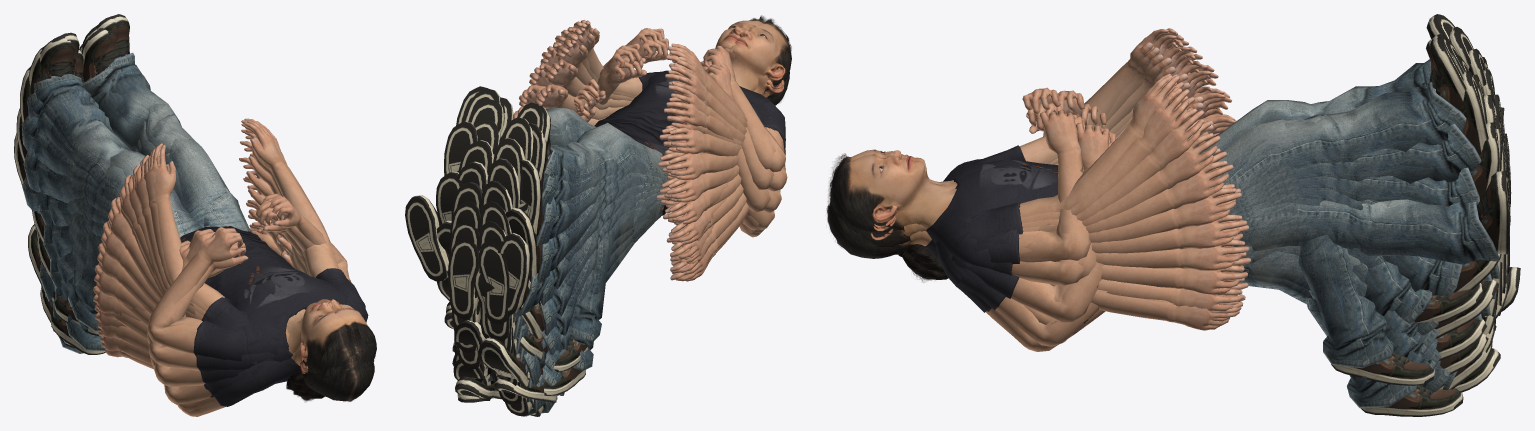
Rendered from casual-male.glb.
3 views of the same model, side by side, from view 1: azimuth 30°, elevation 25°; view 2: azimuth 150°, elevation 25°; view 3: azimuth 270°, elevation 25° (orthographic). The views are drawn at different scales.
Visible parts, largest first — view 1: Walk_4, Run_7, Run_8, Run_6, Walk_17, Walk_16, Walk_3, Walk_15, Run_9, Run_2, Walk_2, Walk_1 (+21 smaller); view 2: Walk_4, Idle, Walk_0, Walk_2, Walk_1, Run_6, Walk_3, Walk_12, Walk_23, Walk_22, Run_9, Walk_13 (+23 smaller); view 3: Idle, Walk_15, Walk_16, Walk_17, Run_4, Walk_14, Walk_13, Run_1, Walk_7, Walk_11, Walk_8, Walk_9 (+17 smaller).
Boxes of the visible parts, <box> form: Walk_4: <box>33,35,356,390</box>; Run_7: <box>40,28,363,374</box>; Run_8: <box>50,28,366,371</box>; Run_6: <box>28,138,362,381</box>; Walk_17: <box>45,25,375,343</box>; Walk_16: <box>37,16,376,360</box>; Walk_3: <box>27,46,358,389</box>; Walk_15: <box>35,14,374,361</box>; Run_9: <box>54,222,367,386</box>; Run_2: <box>75,65,364,416</box>; Walk_2: <box>20,66,357,384</box>; Walk_1: <box>16,108,353,390</box>; Walk_4: <box>472,19,791,382</box>; Idle: <box>405,109,678,317</box>; Walk_0: <box>448,20,768,319</box>; Walk_2: <box>453,19,769,353</box>; Walk_1: <box>452,19,775,329</box>; Run_6: <box>478,45,782,387</box>; Walk_3: <box>457,19,790,369</box>; Walk_12: <box>436,18,763,324</box>; Walk_23: <box>449,115,737,338</box>; Walk_22: <box>450,75,778,361</box>; Run_9: <box>553,84,781,372</box>; Walk_13: <box>436,17,764,341</box>; Idle: <box>826,133,1509,282</box>; Walk_15: <box>831,37,1485,326</box>; Walk_16: <box>829,34,1463,330</box>; Walk_17: <box>829,28,1464,325</box>; Run_4: <box>952,104,1434,385</box>; Walk_14: <box>845,64,1488,311</box>; Walk_13: <box>846,88,1499,294</box>; Run_1: <box>830,100,1510,319</box>; Walk_7: <box>899,48,1492,391</box>; Walk_11: <box>877,137,1509,296</box>; Walk_8: <box>960,69,1495,374</box>; Walk_9: <box>874,94,1501,360</box>.
Size of the model in its own units: 0.7052 by 1.05 by 1.78.
3 materials, 3 textured.
